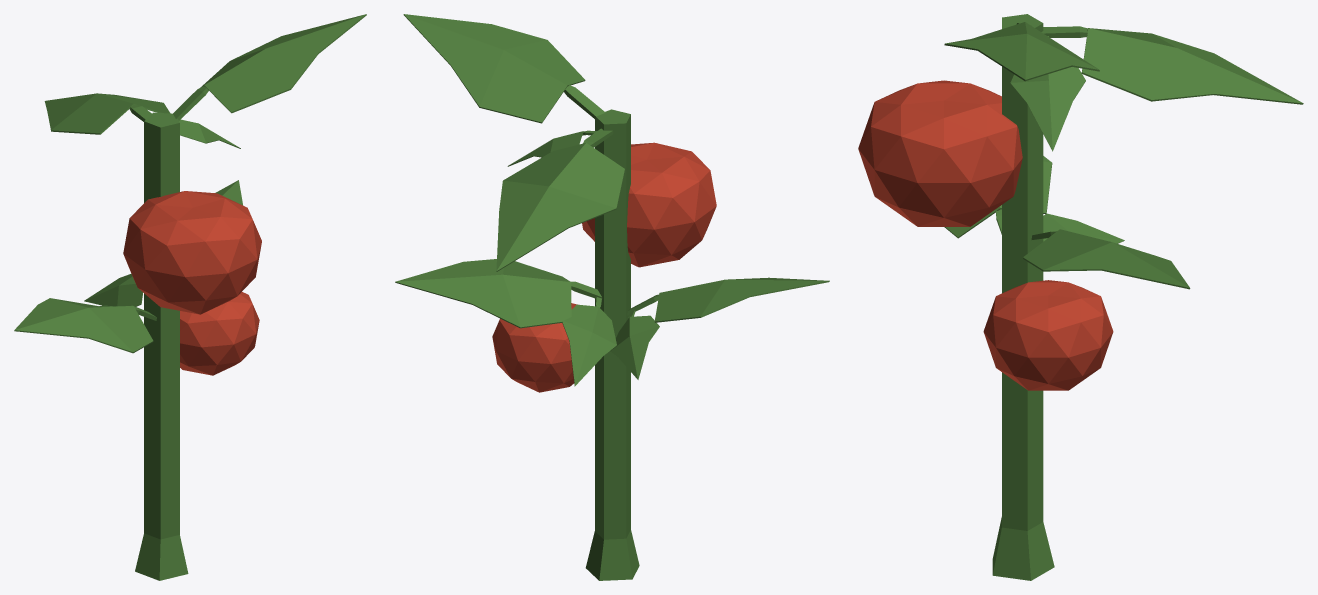
The model's file is TomatoPlant_Stage_02.fbx.
The picture shows the model from 3 angles, left to right: view 1: azimuth 30°, elevation 25°; view 2: azimuth 150°, elevation 25°; view 3: azimuth 270°, elevation 25°; orthographic projection. The views are drawn at different scales.
Parts seen in each view (by area): view 1: TomatoPlant_Stage_02; view 2: TomatoPlant_Stage_02; view 3: TomatoPlant_Stage_02.
Boxes of the visible parts, x1=… form: TomatoPlant_Stage_02: x1=14, y1=14, x2=366, y2=580; TomatoPlant_Stage_02: x1=395, y1=14, x2=829, y2=580; TomatoPlant_Stage_02: x1=858, y1=14, x2=1303, y2=580.
Size of the model in its own units: 163 by 202 by 134.
